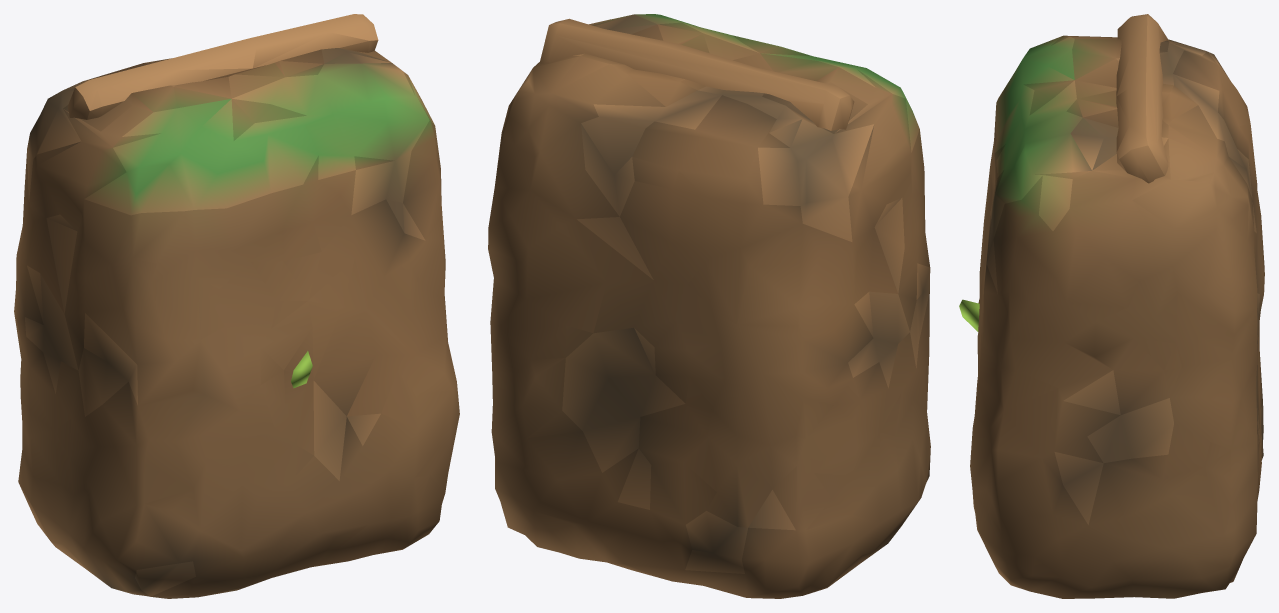
Rendered from canopy_seed_bag_lod2.glb.
The picture shows the model from 3 angles, left to right: view 1: azimuth 30°, elevation 25°; view 2: azimuth 150°, elevation 25°; view 3: azimuth 270°, elevation 25°; orthographic projection. The views are drawn at different scales.
Visible parts, largest first — view 1: canopy_seed_bag.001; view 2: canopy_seed_bag.001; view 3: canopy_seed_bag.001.
Part boxes in pixels (left/top/right/bottom): canopy_seed_bag.001: left=14, top=14, right=459, bottom=598; canopy_seed_bag.001: left=488, top=14, right=930, bottom=598; canopy_seed_bag.001: left=959, top=14, right=1264, bottom=598.
Bounding box in the file's own units: 26.56 × 35.01 × 20.51.
